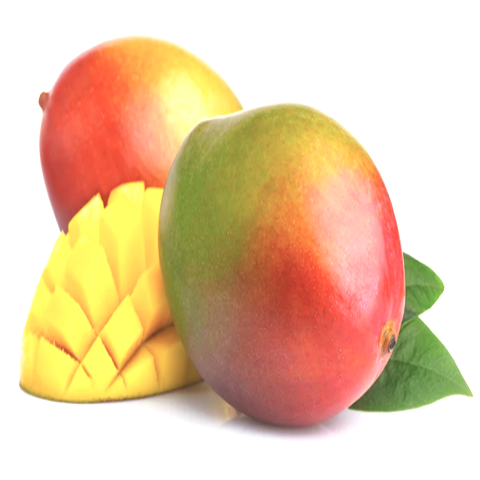mango: (147, 94, 425, 435), (16, 22, 275, 292)
